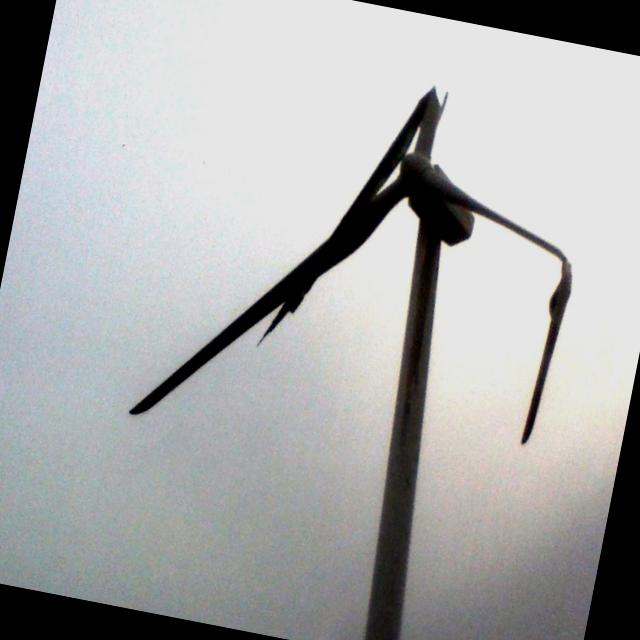crack: (270, 55, 447, 342), (501, 248, 590, 450)
